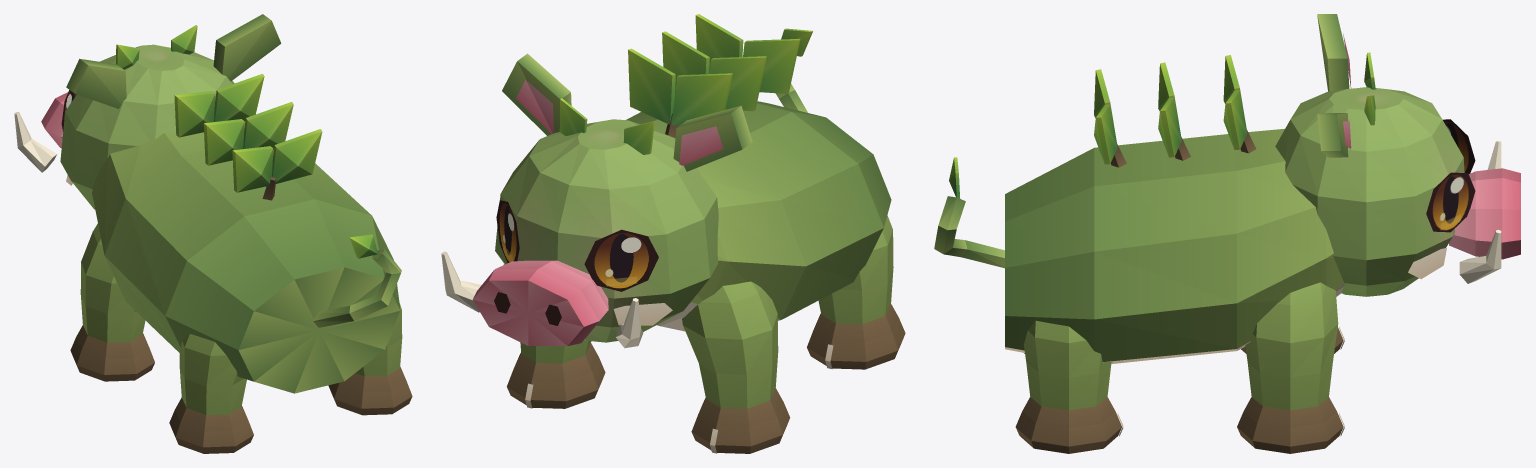
The model's file is BrambleBoar_S3_FacetedReview.obj.
3 renders of one model, left to right at view 1: azimuth 30°, elevation 25°; view 2: azimuth 150°, elevation 25°; view 3: azimuth 270°, elevation 25°, orthographic. The views are drawn at different scales.
Visible parts, largest first — view 1: Body, Head, LeftFrontLeg, LeftBackLeg, RightBackLeg, RightEar, LeftEar, Tail, YoungShoot21, YoungShoot01, YoungShoot11, YoungShoot2-1 (+7 smaller); view 2: Body, Head, LeftFrontLeg, Snout, LeftBackLeg, RightFrontLeg, LeftEye, YoungShoot01, YoungShoot0-1, LeftEar, RightEar, YoungShoot2-1 (+11 smaller); view 3: Body, Head, RightFrontLeg, RightBackLeg, Snout, RightEye, Tail, LeftEar, RightEar, RightTusk, YoungShoot21, YoungShoot11 (+3 smaller).
Boxes of the visible parts, <box> form: Body: <box>92,122,400,393</box>; Head: <box>60,44,234,209</box>; LeftFrontLeg: <box>70,223,154,381</box>; LeftBackLeg: <box>169,334,253,453</box>; RightBackLeg: <box>328,303,412,415</box>; RightEar: <box>213,14,281,81</box>; LeftEar: <box>66,58,126,108</box>; Tail: <box>313,248,401,327</box>; YoungShoot21: <box>272,129,322,183</box>; YoungShoot01: <box>214,73,264,121</box>; YoungShoot11: <box>243,102,293,149</box>; YoungShoot2-1: <box>232,146,273,192</box>; Body: <box>626,101,891,331</box>; Head: <box>495,119,718,342</box>; LeftFrontLeg: <box>682,281,790,453</box>; Snout: <box>472,260,608,345</box>; LeftBackLeg: <box>807,215,905,369</box>; RightFrontLeg: <box>506,340,605,408</box>; LeftEye: <box>584,229,658,291</box>; YoungShoot01: <box>628,48,675,124</box>; YoungShoot0-1: <box>671,73,732,125</box>; LeftEar: <box>673,105,752,171</box>; RightEar: <box>502,53,571,135</box>; YoungShoot2-1: <box>743,38,800,93</box>; Body: <box>1005,128,1344,363</box>; Head: <box>1275,87,1464,296</box>; RightFrontLeg: <box>1237,282,1343,453</box>; RightBackLeg: <box>1015,320,1121,453</box>; Snout: <box>1449,168,1520,259</box>; RightEye: <box>1426,172,1475,232</box>; Tail: <box>934,196,1004,268</box>; LeftEar: <box>1317,14,1349,91</box>; RightEar: <box>1317,113,1348,157</box>; RightTusk: <box>1459,229,1501,283</box>; YoungShoot21: <box>1094,104,1117,164</box>; YoungShoot11: <box>1158,97,1181,157</box>.
Size of the model in its own units: 4.11 by 5 by 8.11.
1 material, 1 textured.
